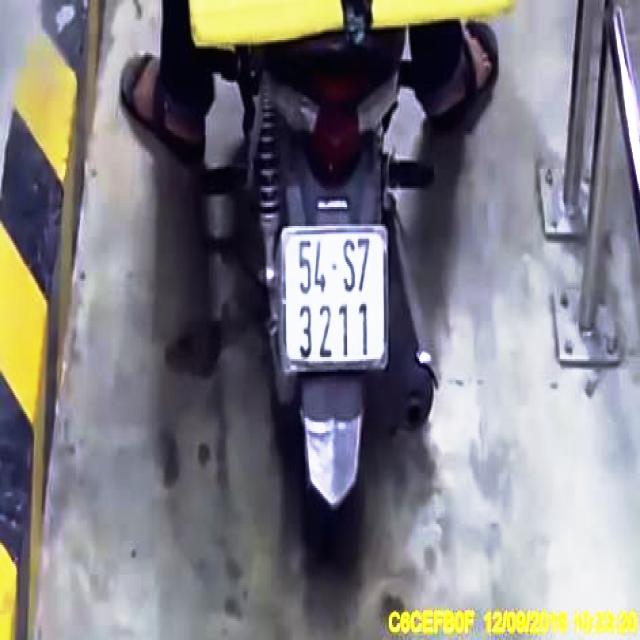license_plate: (282, 228, 390, 370)
